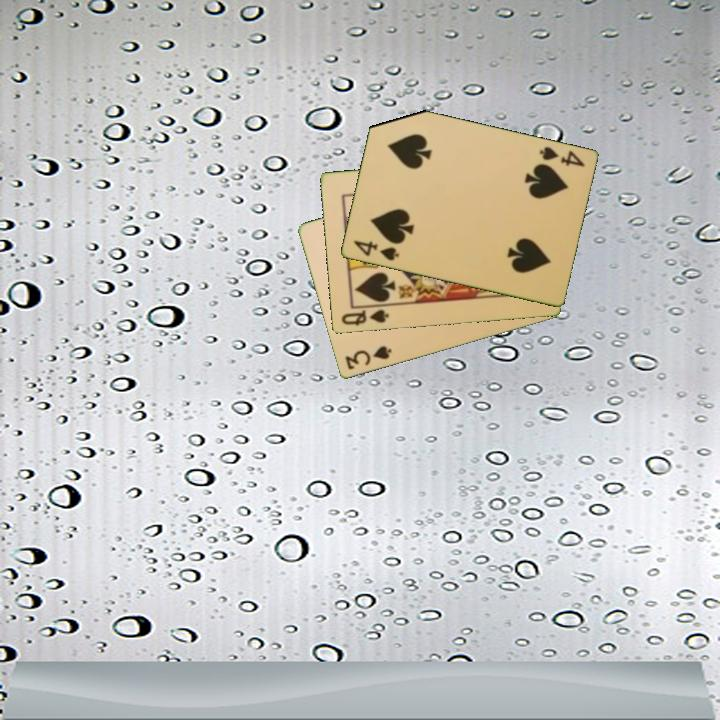3s: (341, 342, 394, 373)
4s: (350, 237, 402, 264), (535, 143, 587, 170)
Qs: (338, 306, 392, 329)
